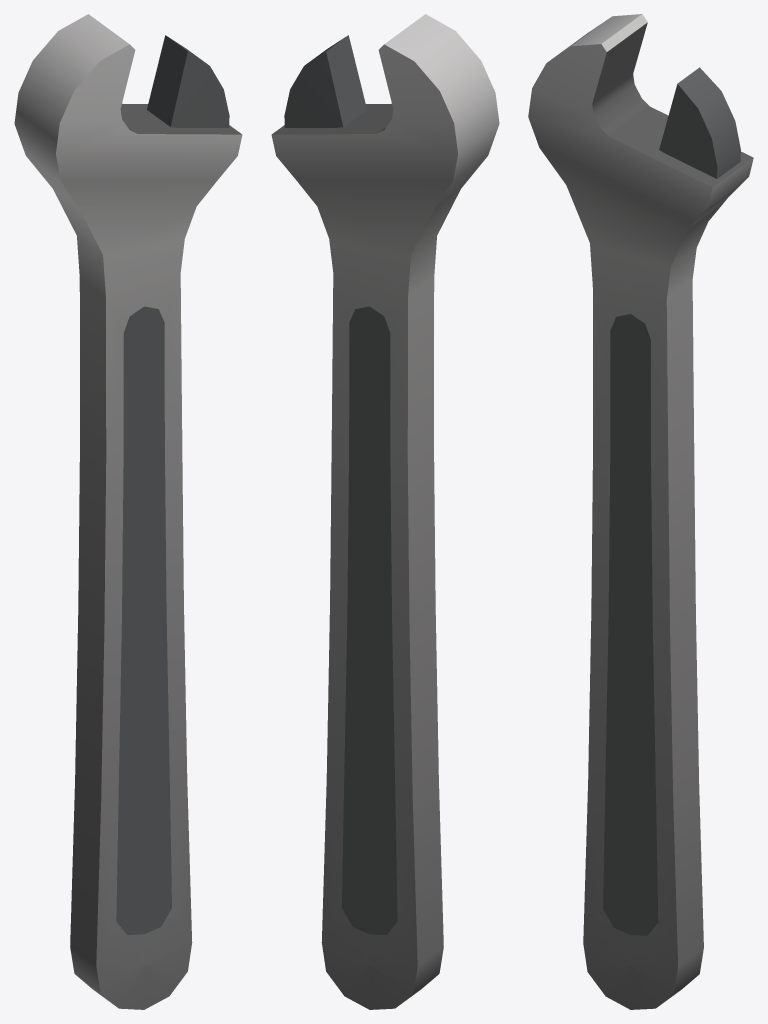
File: Wrench_001.fbx
3 renders of one model, left to right at view 1: azimuth 30°, elevation 25°; view 2: azimuth 150°, elevation 25°; view 3: azimuth 330°, elevation 25°, orthographic.
Visible parts, largest first — view 1: Wrench_001; view 2: Wrench_001; view 3: Wrench_001.
Boxes of the visible parts, bbox=[...] form: Wrench_001: bbox=[14, 14, 242, 1009]; Wrench_001: bbox=[271, 14, 499, 1009]; Wrench_001: bbox=[528, 14, 753, 1009].
Size of the model in its own units: 13.32 by 5.12 by 66.61.
